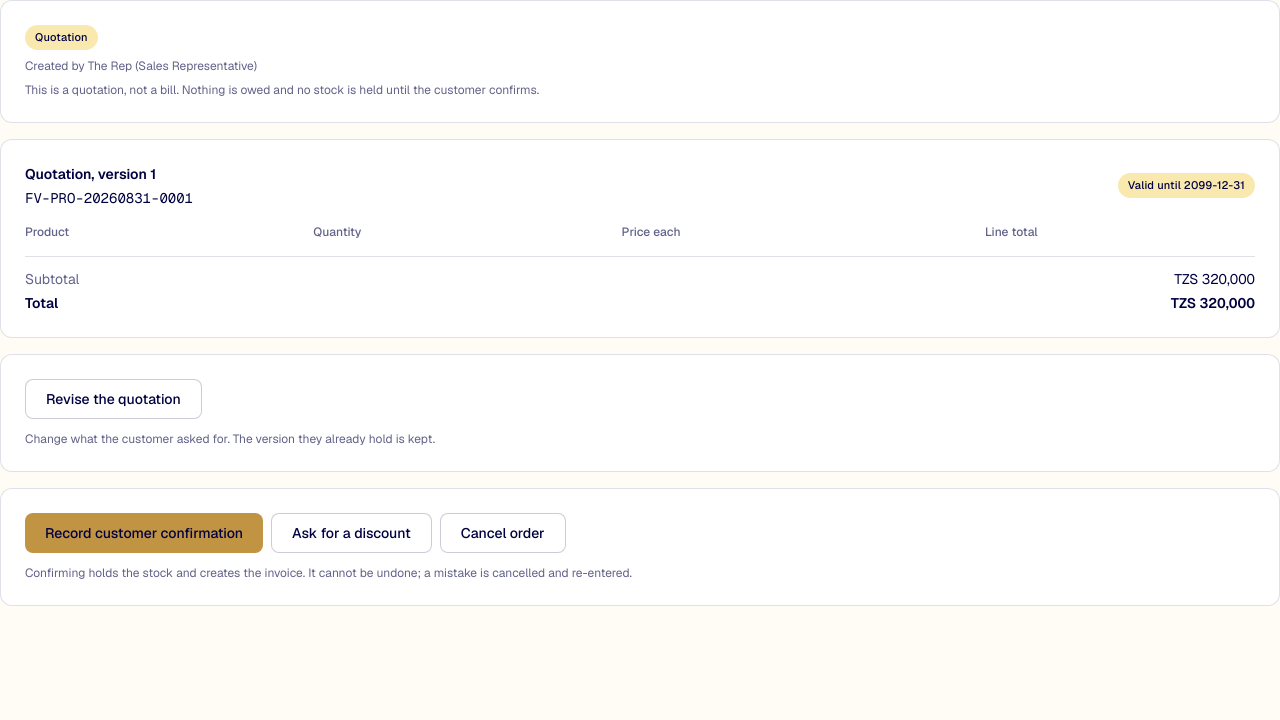
Test case: a refused confirmation › still produces ONE operation when the confirm button is pressed twice
This screenshot has width=1280, height=720.
Click the button "Record customer confirmation" at (144, 532), box x1=25 y1=512 x2=263 y2=552
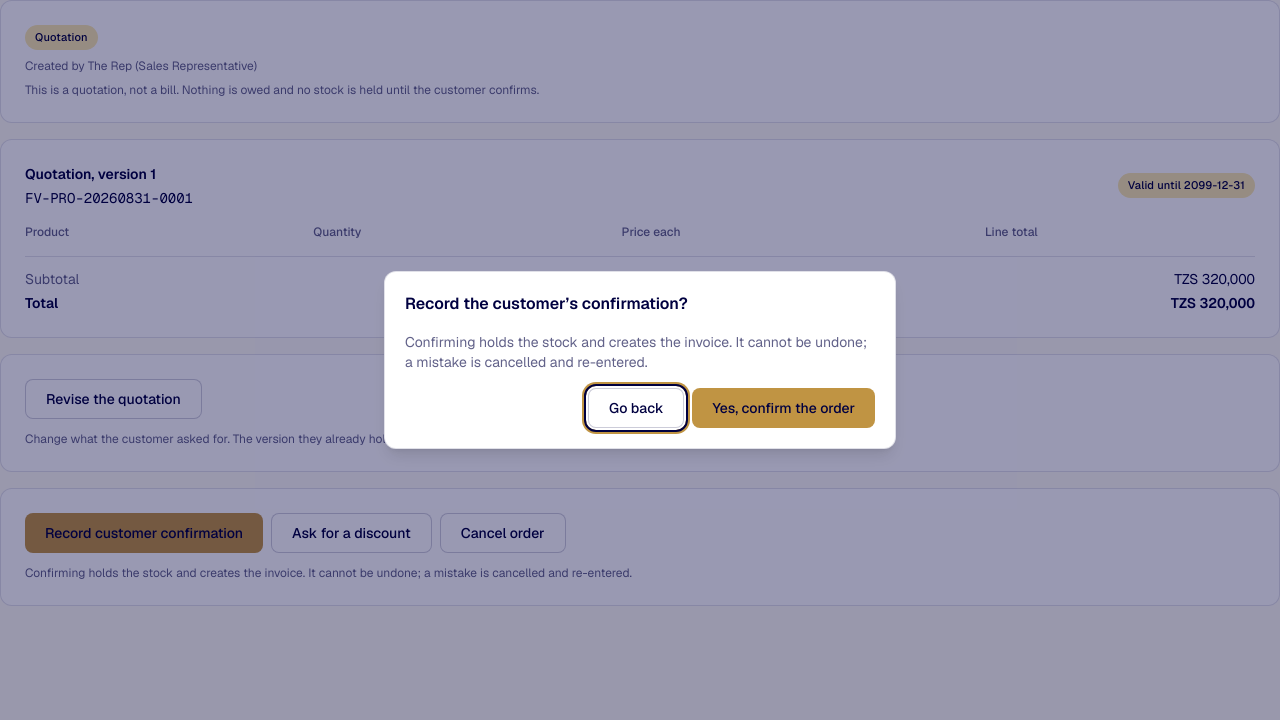
Click the button "Yes, confirm the order" at (784, 408), box x1=692 y1=388 x2=875 y2=428
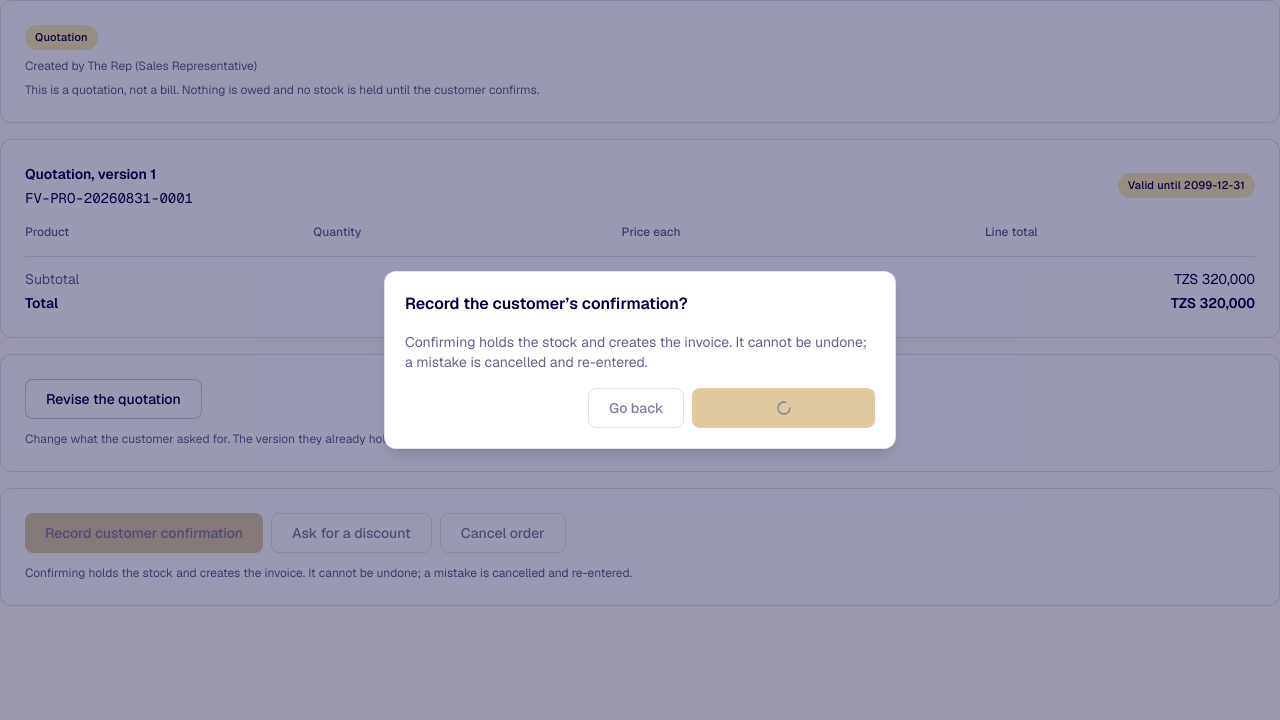
Click the button named "yes, confirm the order" at (784, 408), box x1=692 y1=388 x2=875 y2=428
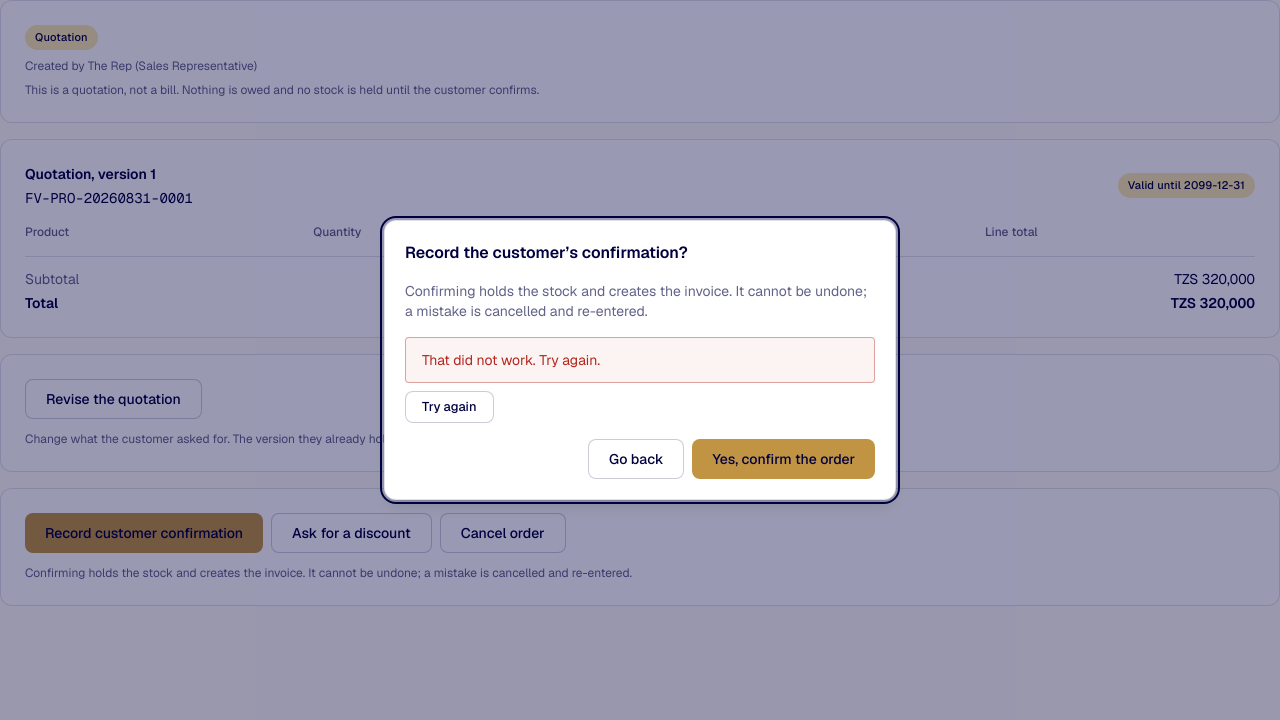
Expected: the message "That did not work. Try again." is shown, x1=405 y1=337 x2=875 y2=383
